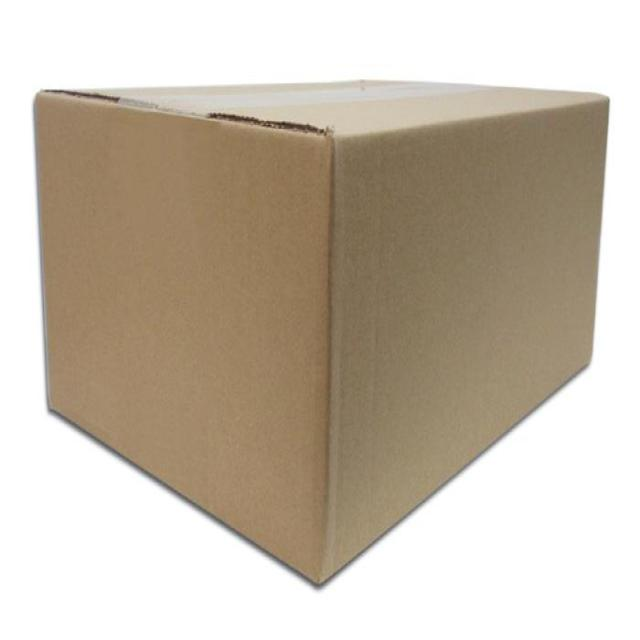cardboard: (33, 82, 609, 591)
